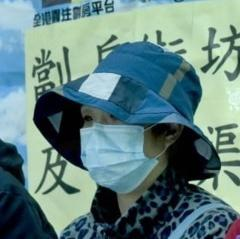OK: (80, 96, 157, 190)
